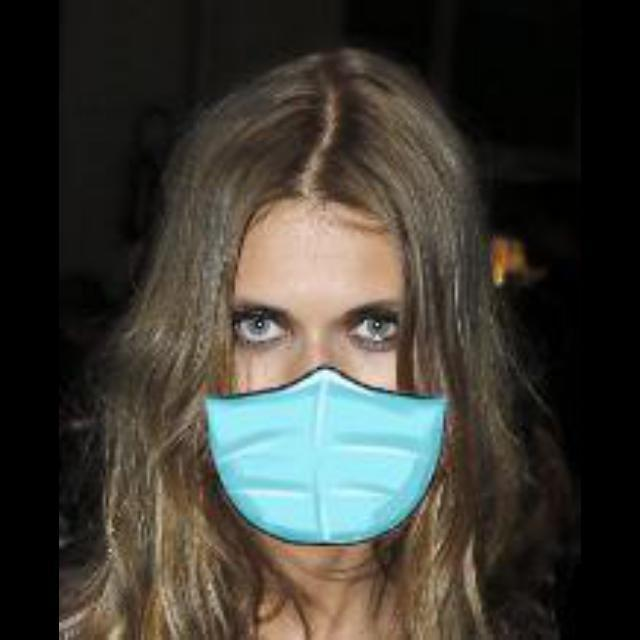suspicion: (181, 82, 489, 552)
